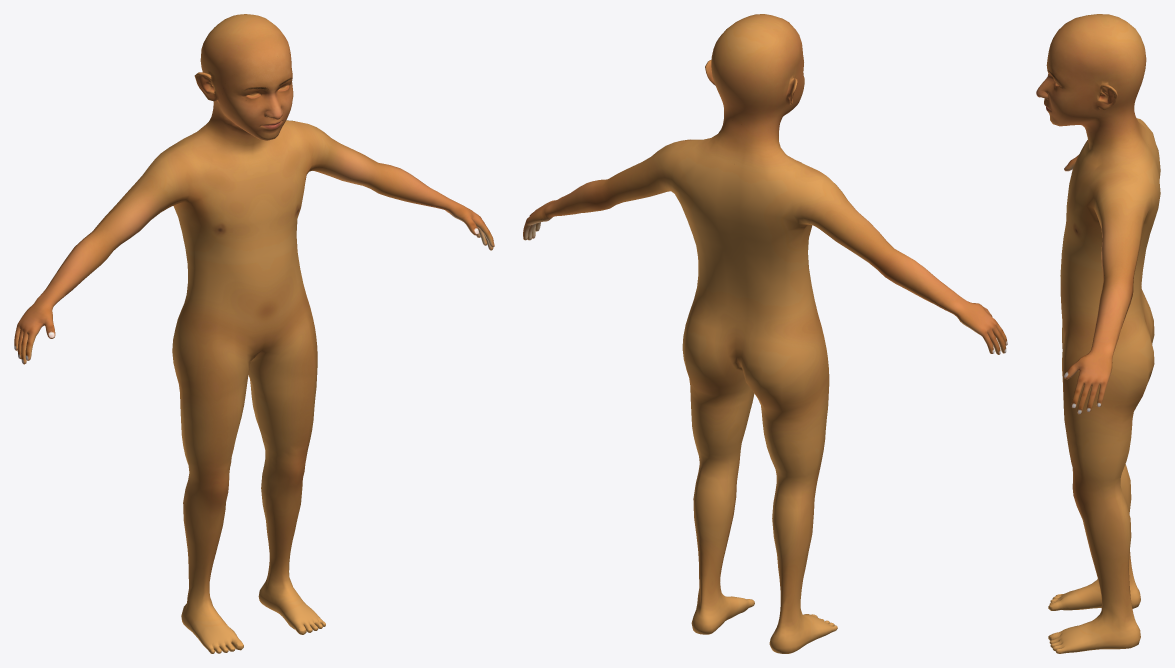
The model's file is child.glb.
3 renders of one model, left to right at view 1: azimuth 30°, elevation 25°; view 2: azimuth 150°, elevation 25°; view 3: azimuth 270°, elevation 25°, orthographic.
Parts seen in each view (by area): view 1: Object_2; view 2: Object_2; view 3: Object_2.
Boxes of the visible parts, x1=… form: Object_2: x1=14, y1=14, x2=494, y2=653; Object_2: x1=523, y1=14, x2=1007, y2=653; Object_2: x1=1036, y1=14, x2=1160, y2=653.
Bounding box in the file's own units: 6.57 × 8.08 × 1.5.
1 material, 1 textured.
